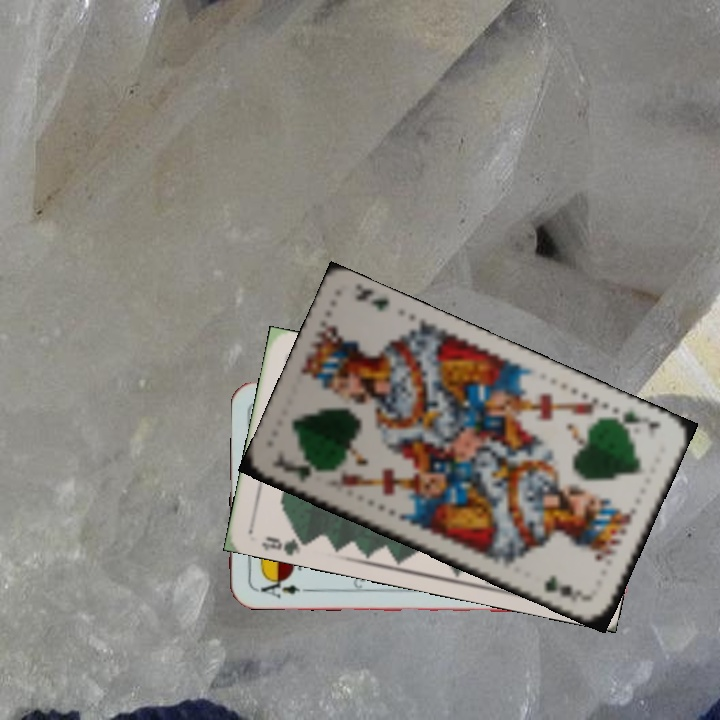EA: (253, 574, 312, 601)
G9: (257, 528, 311, 557)
GK: (606, 406, 664, 440), (274, 460, 326, 486)
